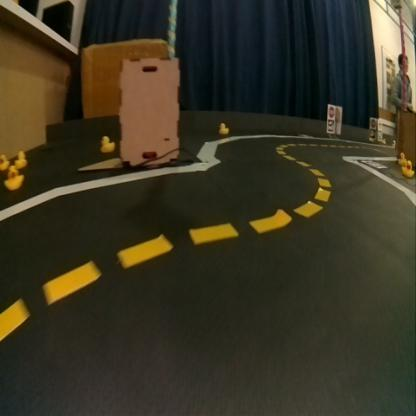Duckie: (4, 166, 23, 188), (101, 135, 114, 152), (14, 150, 27, 167), (402, 161, 412, 175), (218, 123, 228, 136), (397, 151, 404, 164), (1, 154, 7, 169), (390, 139, 396, 147), (382, 138, 386, 146)
QR code: (362, 160, 384, 169), (327, 118, 333, 132), (370, 130, 375, 139)
Stop sign: (369, 119, 375, 127), (328, 106, 333, 115)
